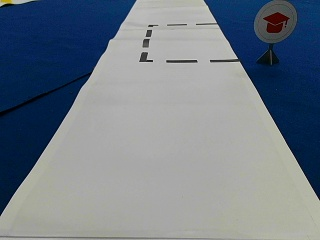school: (254, 2, 296, 43)
